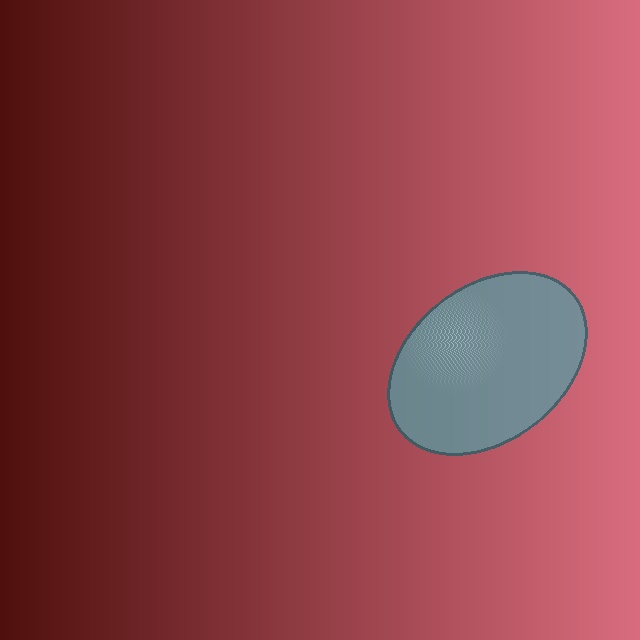lens: (388, 272, 586, 454)
